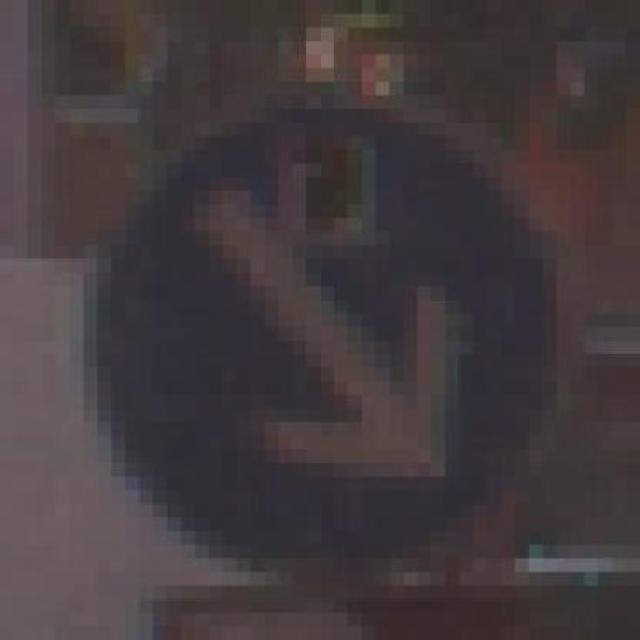Keep-Right: (28, 82, 598, 586)
